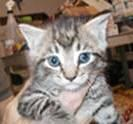cat: (14, 13, 119, 123)
